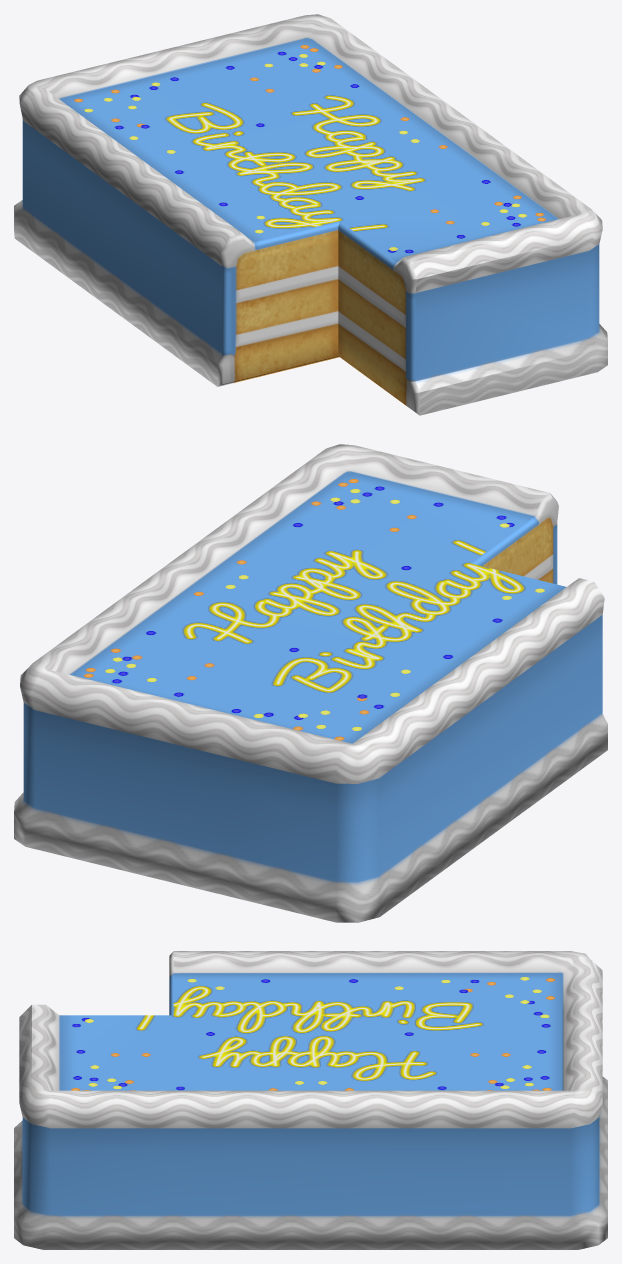
The model's file is Birthday_SheetCake_Cut.fbx.
The picture shows the model from 3 angles, top to bottom: view 1: azimuth 30°, elevation 25°; view 2: azimuth 150°, elevation 25°; view 3: azimuth 270°, elevation 25°; orthographic projection. The views are drawn at different scales.
Parts seen in each view (by area): view 1: BDay_SheetCake_Cut; view 2: BDay_SheetCake_Cut; view 3: BDay_SheetCake_Cut.
Part boxes in pixels (<box>): BDay_SheetCake_Cut: <box>14,14,607,415</box>; BDay_SheetCake_Cut: <box>14,444,607,922</box>; BDay_SheetCake_Cut: <box>14,951,607,1249</box>.
Size of the model in its own units: 76.45 by 33.06 by 121.
